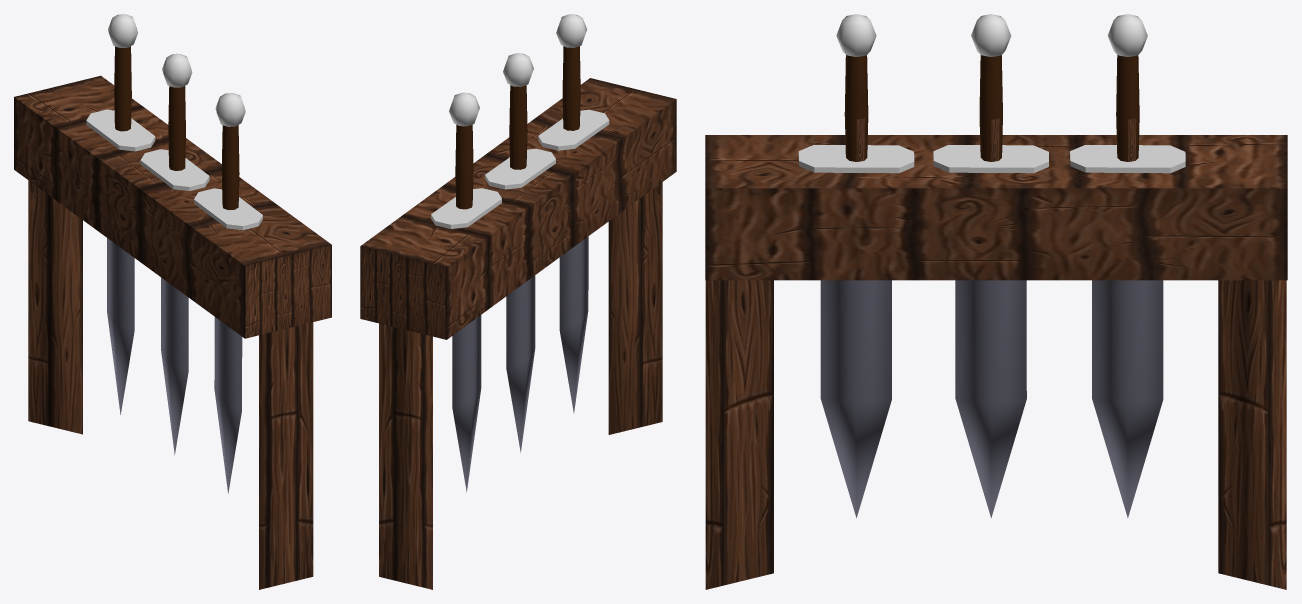
The model's file is rack.glb.
The picture shows the model from 3 angles, left to right: view 1: azimuth 30°, elevation 25°; view 2: azimuth 150°, elevation 25°; view 3: azimuth 270°, elevation 25°; orthographic projection. The views are drawn at different scales.
Parts seen in each view (by area): view 1: Weapon Rack_Material #76_0, Weapon Rack_14 - Default_0, Weapon Rack_07 - Default_0, Weapon Rack_13 - Default_0; view 2: Weapon Rack_Material #76_0, Weapon Rack_14 - Default_0, Weapon Rack_07 - Default_0, Weapon Rack_13 - Default_0; view 3: Weapon Rack_Material #76_0, Weapon Rack_14 - Default_0, Weapon Rack_07 - Default_0, Weapon Rack_13 - Default_0.
Boxes of the visible parts, x1,y1,x2,y2 form: Weapon Rack_Material #76_0: [14, 75, 331, 589]; Weapon Rack_14 - Default_0: [107, 238, 242, 493]; Weapon Rack_07 - Default_0: [86, 14, 262, 230]; Weapon Rack_13 - Default_0: [114, 46, 239, 209]; Weapon Rack_Material #76_0: [360, 78, 676, 589]; Weapon Rack_14 - Default_0: [452, 236, 588, 492]; Weapon Rack_07 - Default_0: [431, 14, 609, 228]; Weapon Rack_13 - Default_0: [455, 46, 580, 209]; Weapon Rack_Material #76_0: [705, 118, 1287, 589]; Weapon Rack_14 - Default_0: [820, 280, 1163, 517]; Weapon Rack_07 - Default_0: [798, 14, 1185, 173]; Weapon Rack_13 - Default_0: [844, 55, 1139, 161].
Bounding box in the file's own units: 0.3879 × 1.9 × 1.78.
4 materials, 1 textured.
